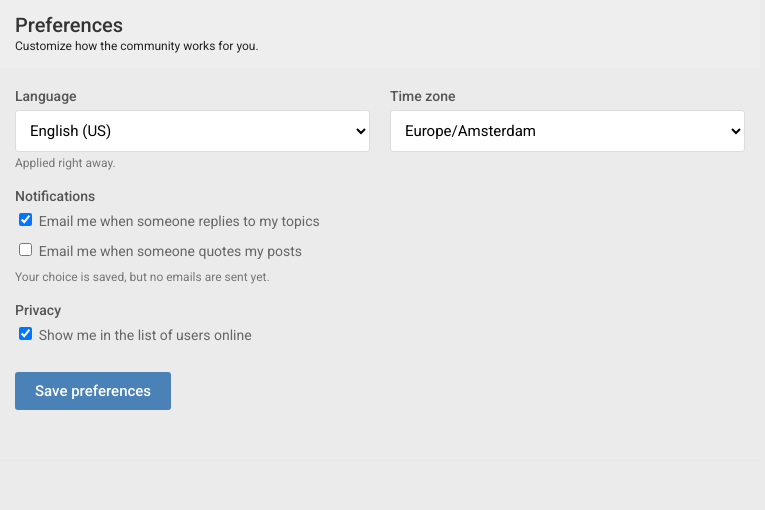
Scenario: maps a server error for the time zone onto the field
The image size is (765, 510).
Select "UTC" in the dropdown labelled "Time zone" at (568, 131), box [390,110,745,152]
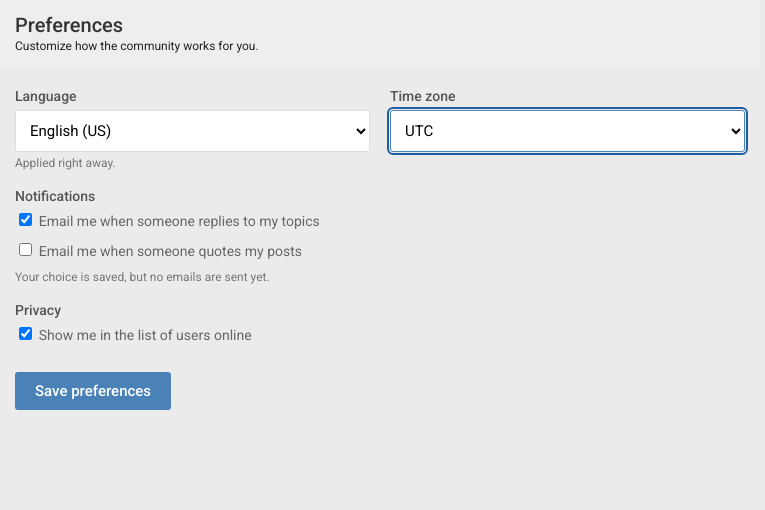
Click the button "Save preferences" at (93, 391), box [15,372,171,410]
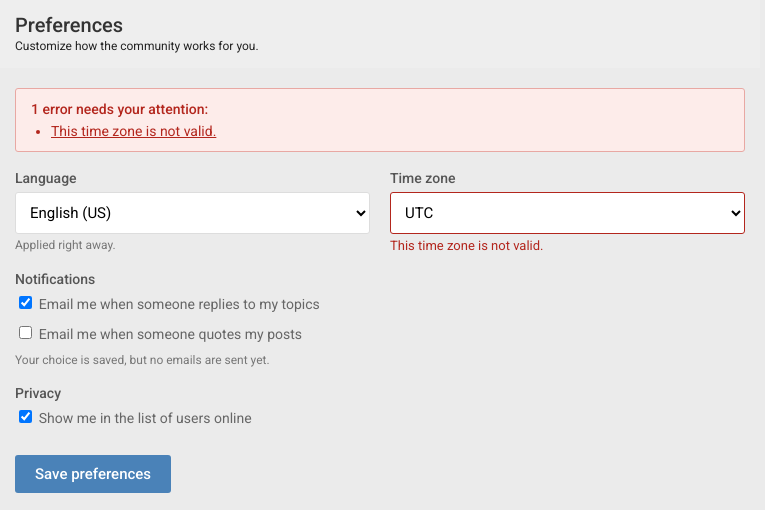
Check: the text with id "timezone-error" reads "This time zone is not valid.", box [390,238,544,253]
